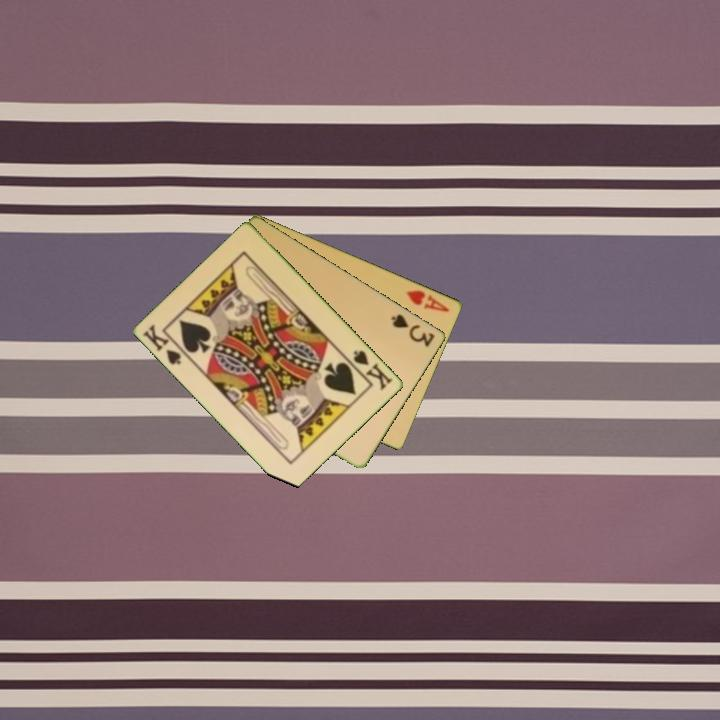3s: (388, 310, 438, 350)
Ah: (403, 286, 453, 315)
Ks: (140, 321, 192, 368), (345, 347, 396, 393)
